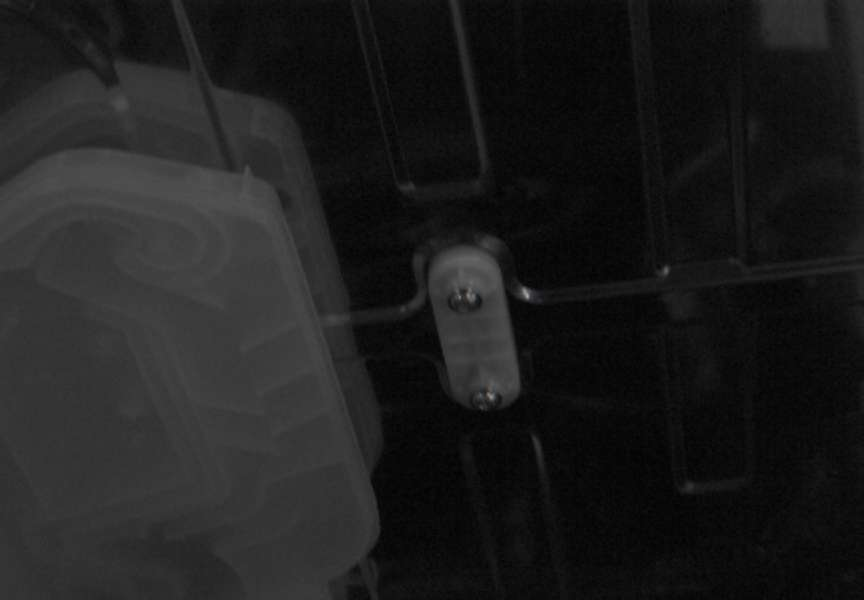screw: (448, 287, 482, 314), (470, 388, 503, 412)
